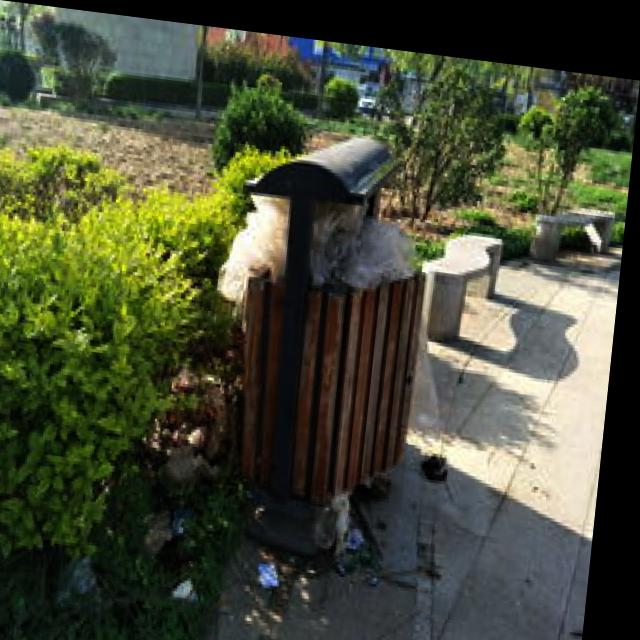overflow: (204, 113, 441, 502)
